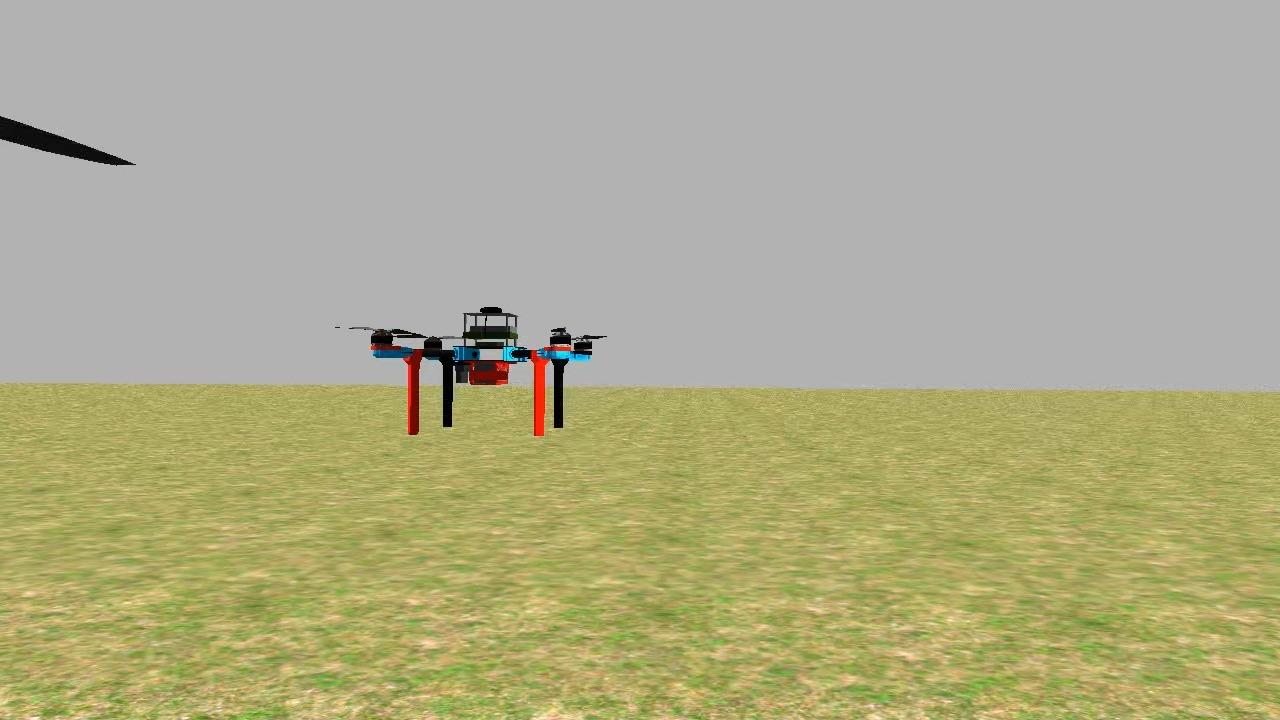UAV: (361, 304, 605, 439)
